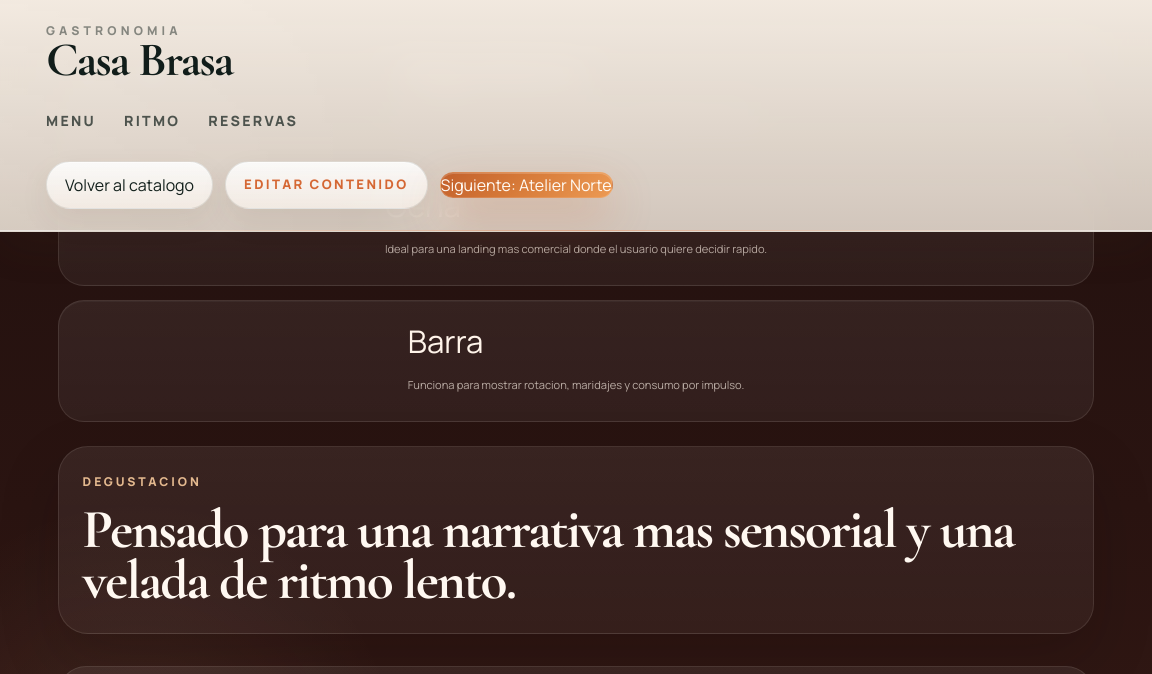
Test case: RestaurantPage › activates the selected menu tab and swaps the visible dishes
The width and height of the screenshot is (1152, 674).
(page scrolled)
What coordinates should you click on to do the following:
click the button "Barra"
I would click on:
 (446, 341)
Its box is [58,300,1094,422].
(page scrolled)
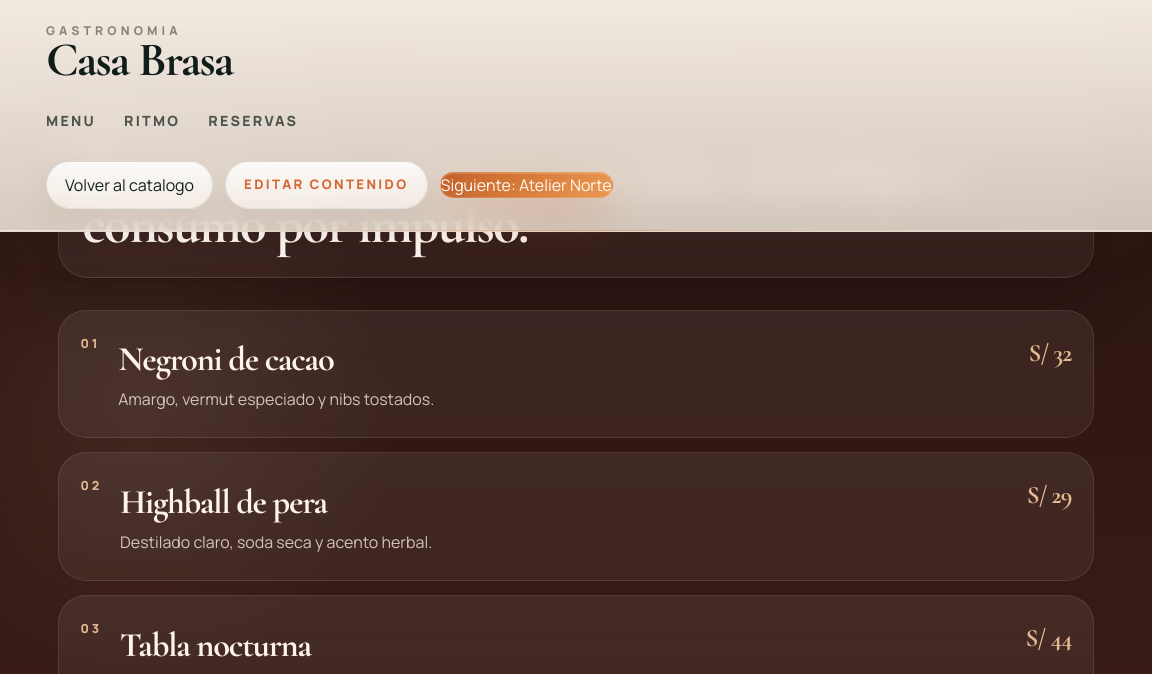
Check: the heading "Negroni de cacao" is shown, box [118,344,334,376]
